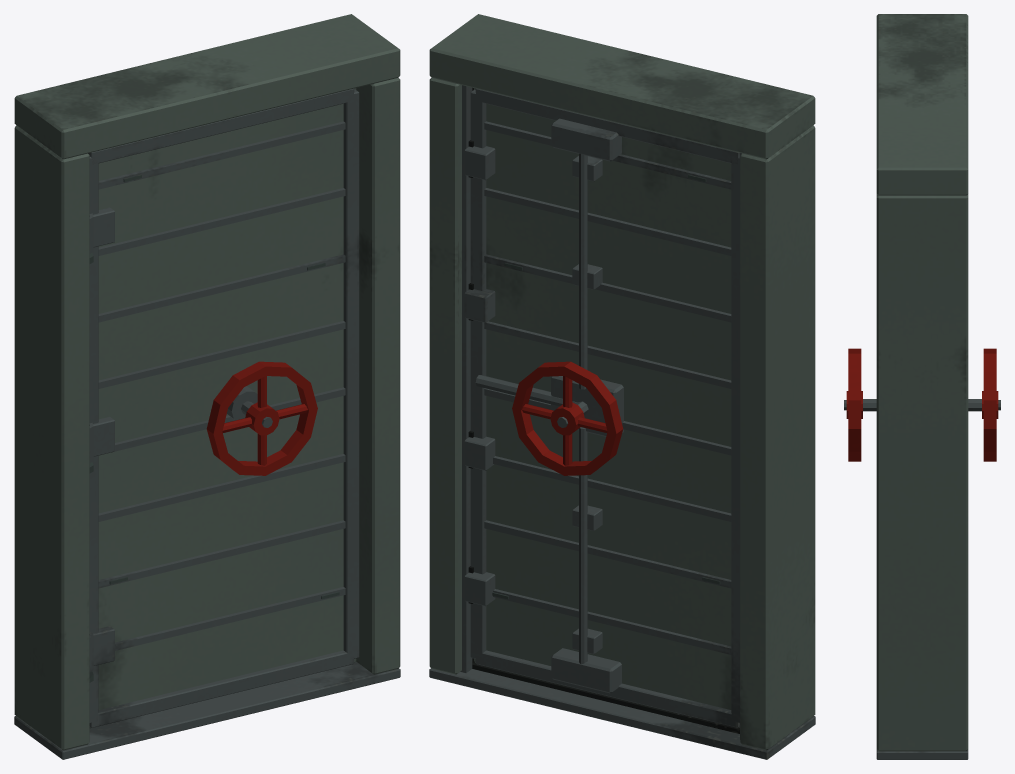
Rendered from hermetic_door.glb.
The picture shows the model from 3 angles, left to right: view 1: azimuth 30°, elevation 25°; view 2: azimuth 150°, elevation 25°; view 3: azimuth 270°, elevation 25°; orthographic projection. The views are drawn at different scales.
Visible parts, largest first — view 1: HermeticLeaf, HermeticFrame, RedHandwheelFront; view 2: HermeticLeaf, HermeticFrame, RedHandwheelBack; view 3: HermeticFrame, RedHandwheelBack, RedHandwheelFront, HermeticLeaf.
Part boxes in pixels (bbox=[...]): HermeticLeaf: bbox=[88, 88, 359, 728]; HermeticFrame: bbox=[14, 14, 400, 759]; RedHandwheelFront: bbox=[206, 361, 317, 475]; HermeticLeaf: bbox=[464, 88, 739, 727]; HermeticFrame: bbox=[429, 14, 815, 759]; RedHandwheelBack: bbox=[512, 361, 623, 475]; HermeticFrame: bbox=[876, 14, 968, 759]; RedHandwheelBack: bbox=[982, 348, 1000, 461]; RedHandwheelFront: bbox=[844, 348, 862, 461]; HermeticLeaf: bbox=[863, 399, 981, 411].
Size of what is drawn, in the model's own units: 1.44 by 2.56 by 0.614.
Materials: 1 (1 with a texture image).
